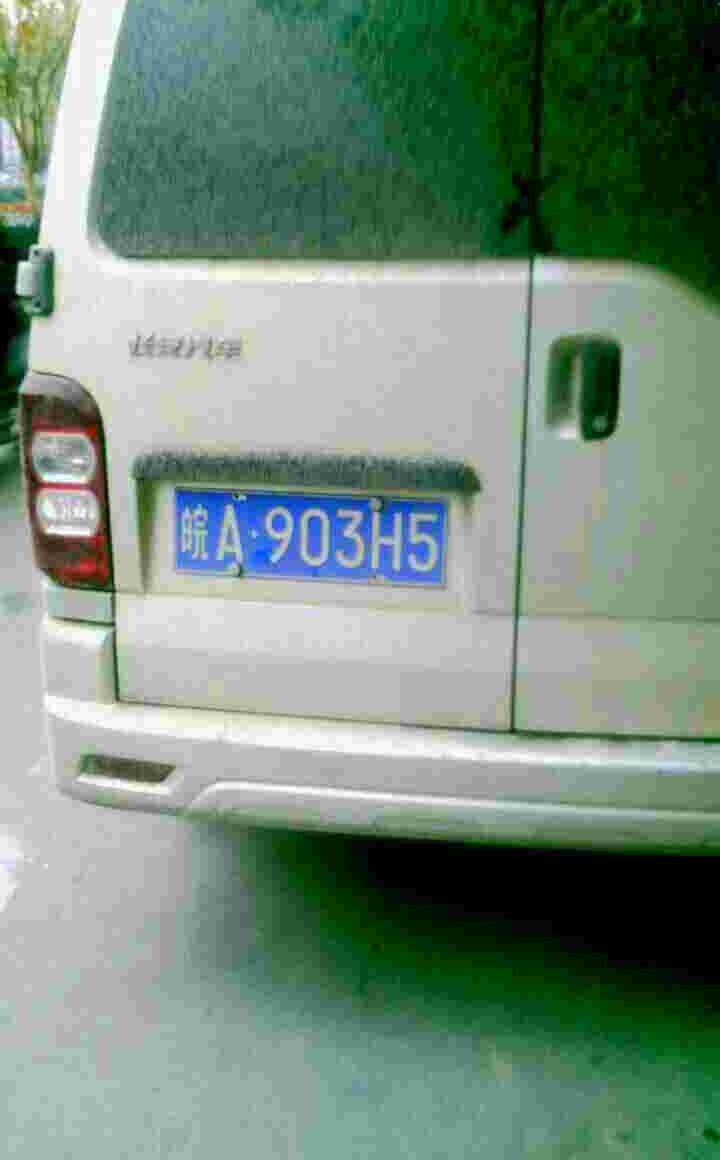license_plate: (171, 498, 444, 568)
